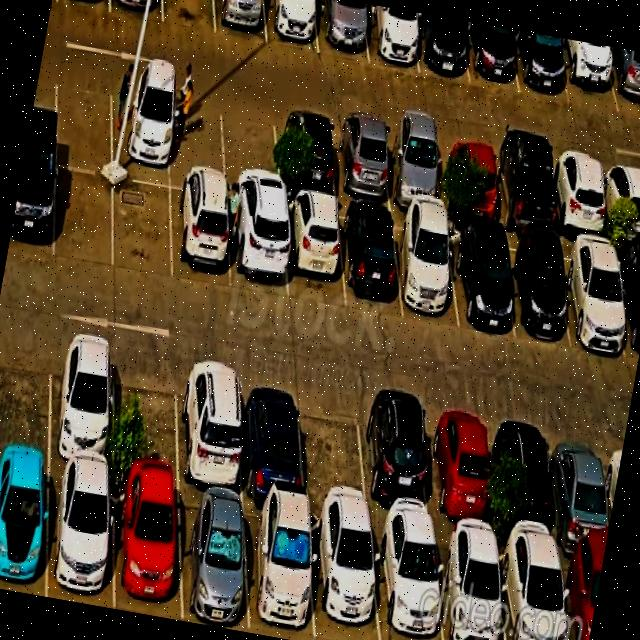empty: (299, 381, 368, 519), (114, 345, 179, 485), (0, 325, 51, 459), (221, 99, 279, 207), (54, 167, 113, 269), (55, 68, 111, 174), (169, 90, 225, 196), (114, 178, 171, 282), (162, 0, 215, 33)
occupied: (358, 391, 433, 529), (177, 488, 249, 631), (243, 500, 314, 640), (112, 476, 181, 619), (424, 400, 492, 541), (47, 464, 113, 608), (309, 510, 379, 640), (178, 357, 242, 497), (239, 368, 304, 505), (49, 332, 112, 473), (497, 411, 558, 549), (371, 524, 443, 640), (549, 420, 610, 556), (558, 238, 628, 355), (434, 531, 505, 640), (446, 225, 514, 338), (499, 233, 569, 342), (392, 214, 458, 328), (339, 204, 402, 315), (497, 541, 567, 640), (283, 195, 344, 308), (0, 456, 49, 596), (111, 79, 169, 187), (170, 189, 231, 289), (227, 201, 287, 300), (491, 144, 555, 236), (274, 109, 336, 199), (437, 135, 499, 224), (382, 125, 443, 212), (331, 117, 391, 205), (7, 156, 56, 259), (550, 152, 608, 239), (557, 37, 618, 112), (513, 29, 569, 103), (558, 550, 604, 640), (412, 11, 469, 83), (464, 20, 519, 92), (362, 2, 418, 72), (601, 159, 640, 243), (613, 246, 640, 362), (316, 0, 368, 60), (263, 0, 318, 53), (604, 45, 640, 116), (214, 0, 266, 44), (110, 0, 162, 22)
